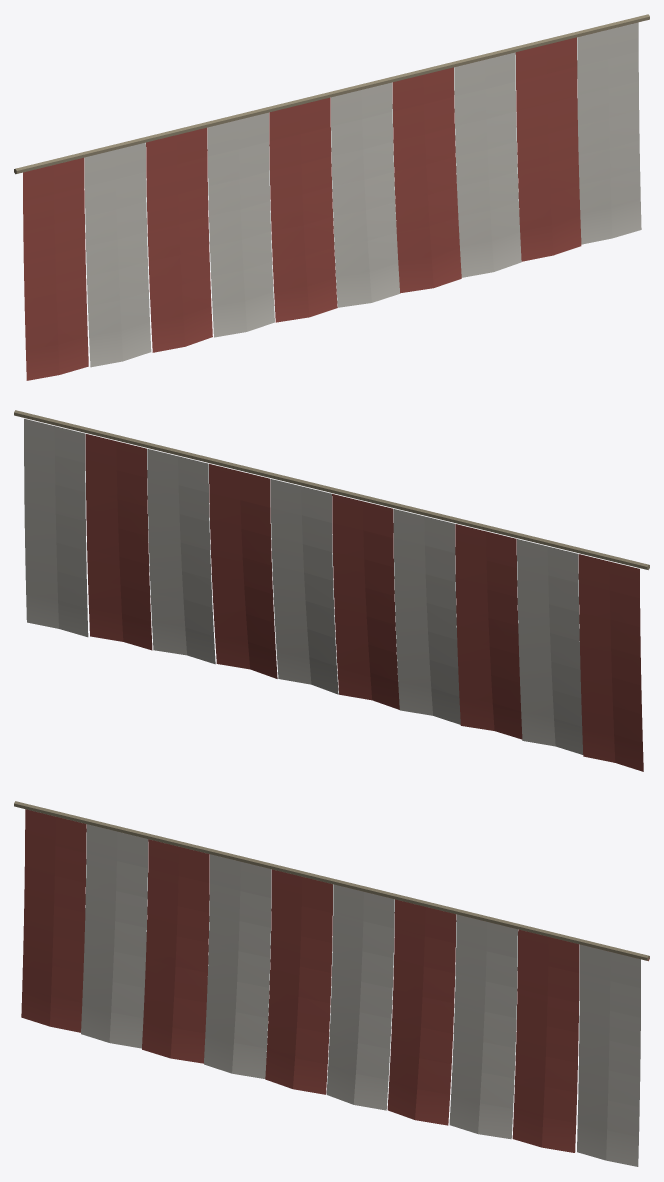
The model's file is prop_maku_kouhaku.glb.
3 renders of one model, top to bottom at view 1: azimuth 30°, elevation 25°; view 2: azimuth 150°, elevation 25°; view 3: azimuth 330°, elevation 25°, orthographic.
Parts seen in each view (by area): view 1: prop_maku_kouhaku; view 2: prop_maku_kouhaku; view 3: prop_maku_kouhaku.
Part boxes in pixels (x1,y1,x2,y2): prop_maku_kouhaku: [14, 14, 649, 380]; prop_maku_kouhaku: [14, 410, 649, 771]; prop_maku_kouhaku: [14, 801, 649, 1166].
Size of the model in its own units: 3.7 by 1.19 by 0.1212.
